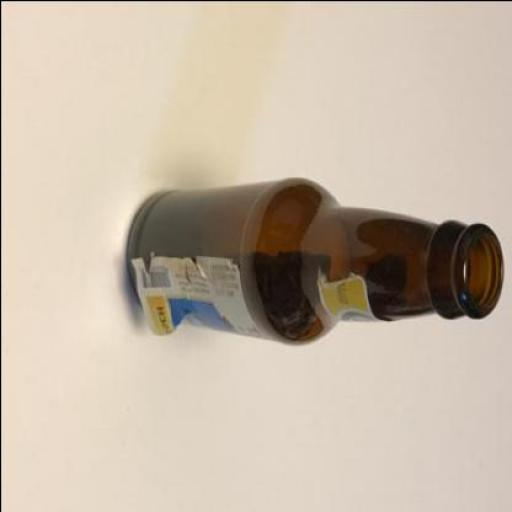glass: (126, 174, 505, 343)
